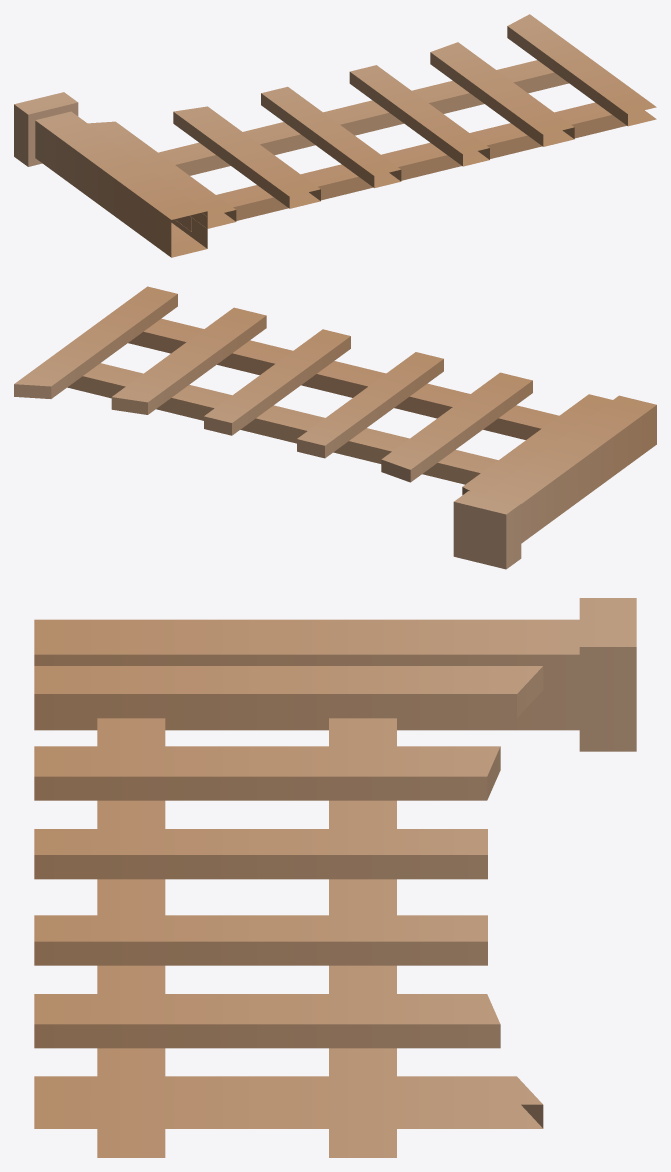
File: country-fence.obj
3 renders of one model, top to bottom at view 1: azimuth 30°, elevation 25°; view 2: azimuth 150°, elevation 25°; view 3: azimuth 270°, elevation 25°, orthographic. The views are drawn at different scales.
Visible parts, largest first — view 1: country-fence; view 2: country-fence; view 3: country-fence.
Part boxes in pixels (left/top/right/bottom): country-fence: left=14, top=14, right=656, bottom=257; country-fence: left=14, top=286, right=656, bottom=569; country-fence: left=34, top=598, right=636, bottom=1157.
Bounding box in the file's own units: 2.82 × 0.2862 × 1.49.
1 material, 1 textured.
